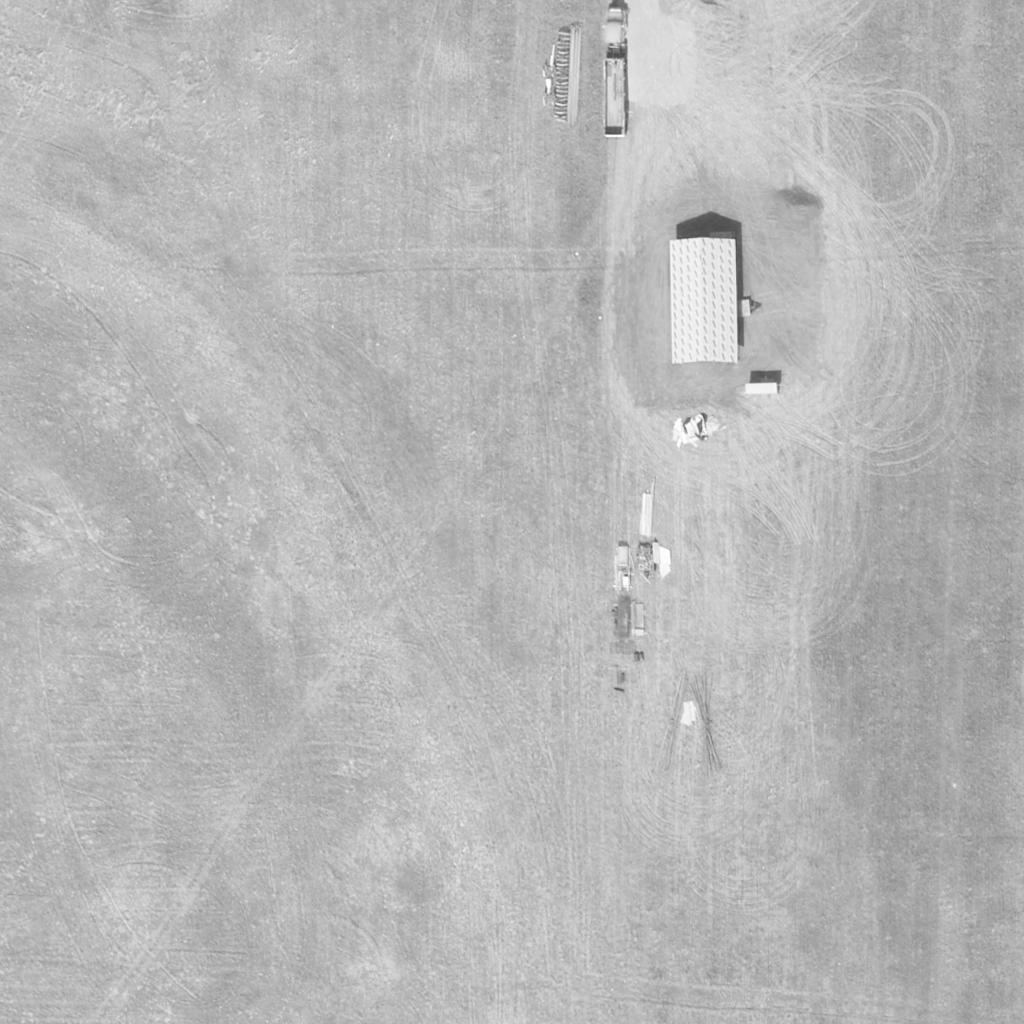vehicle: (602, 5, 630, 139)
